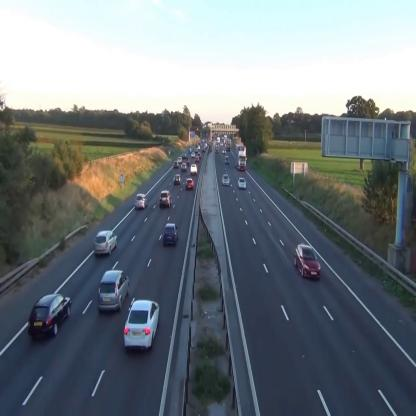car: (29, 293, 72, 337), (124, 300, 160, 349), (98, 269, 130, 312), (294, 244, 322, 280), (94, 230, 117, 256), (164, 222, 178, 247), (134, 192, 147, 209), (160, 190, 172, 208), (238, 176, 247, 190), (186, 178, 194, 189), (222, 174, 230, 185), (173, 174, 180, 185), (190, 164, 197, 174), (181, 162, 186, 171), (194, 155, 199, 162), (174, 160, 178, 167)
lorry: (235, 143, 247, 171)
